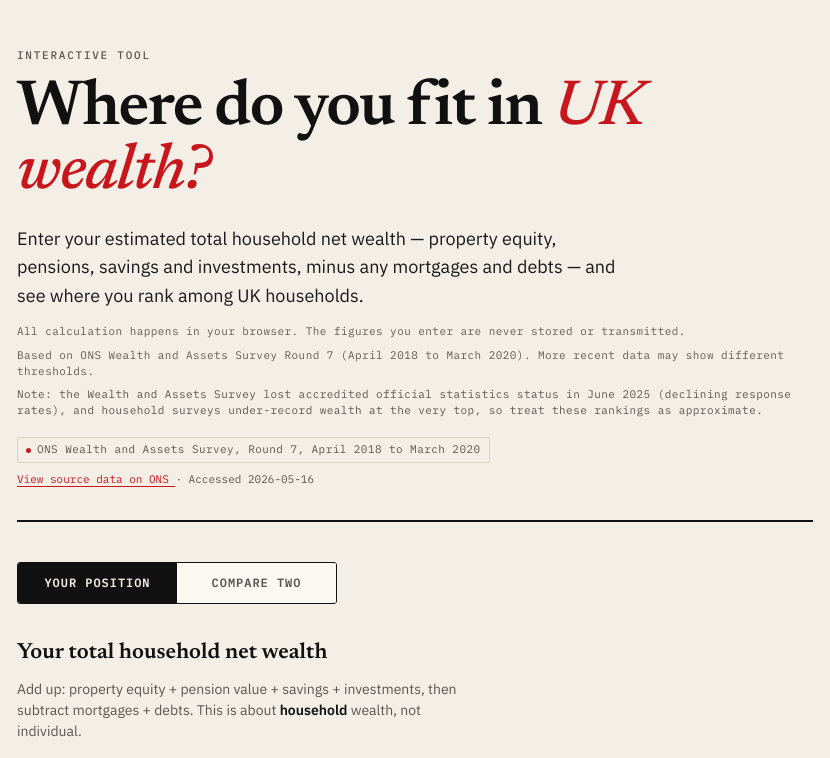
Scenario: WealthCalculator — compare mode results › displays wealth difference
Click the tab with id "tab-compare": [256, 583] box [177,564,336,603]
(page scrolled)
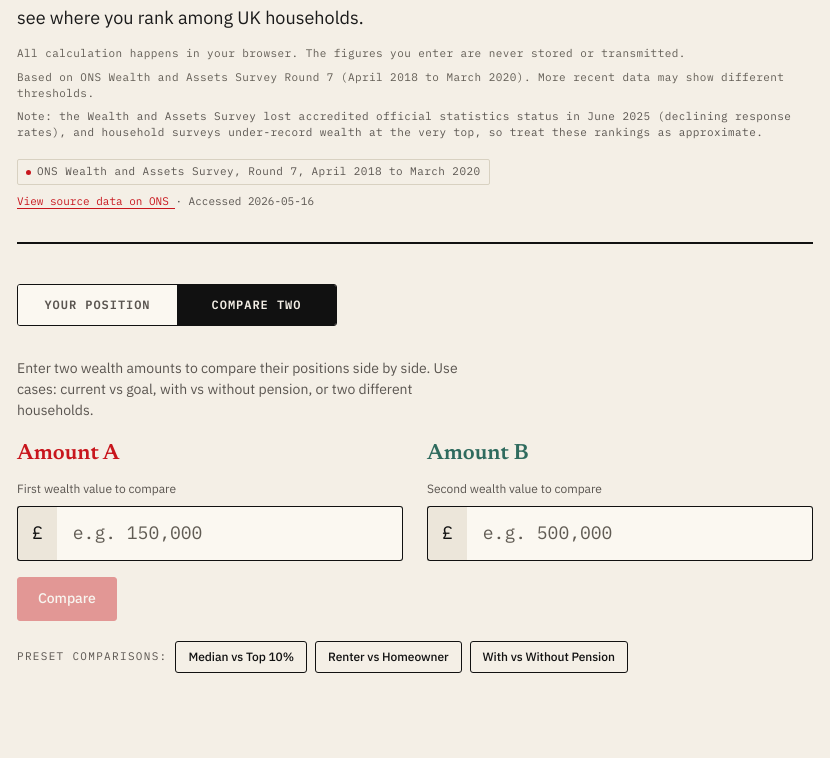
In the field with id "compare-input-a": [230, 533] box [57,506,403,561], type "100000"
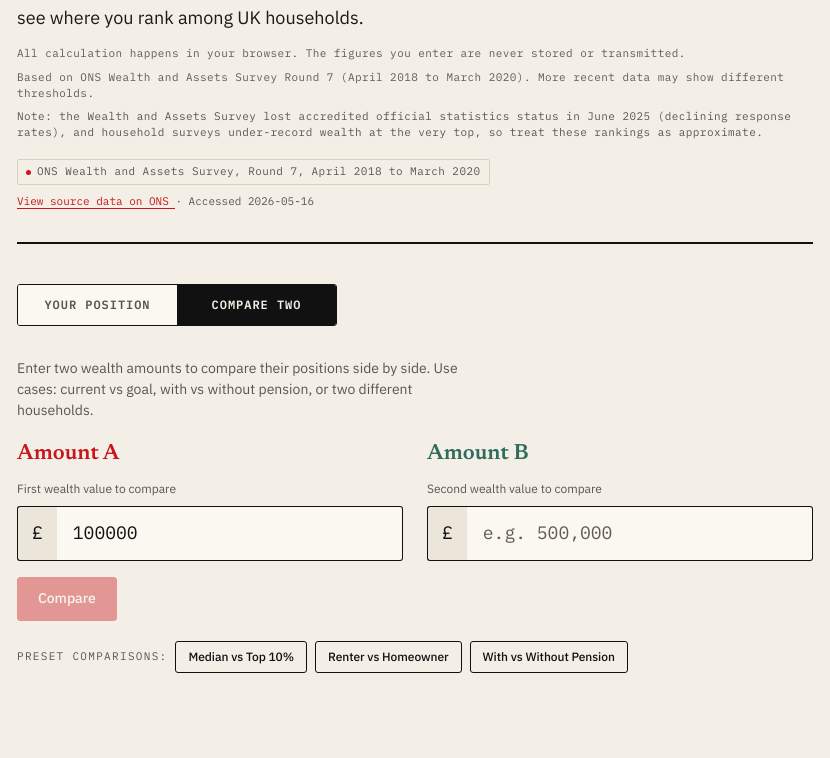
In the field with id "compare-input-b": [640, 533] box [467,506,813,561], type "500000"
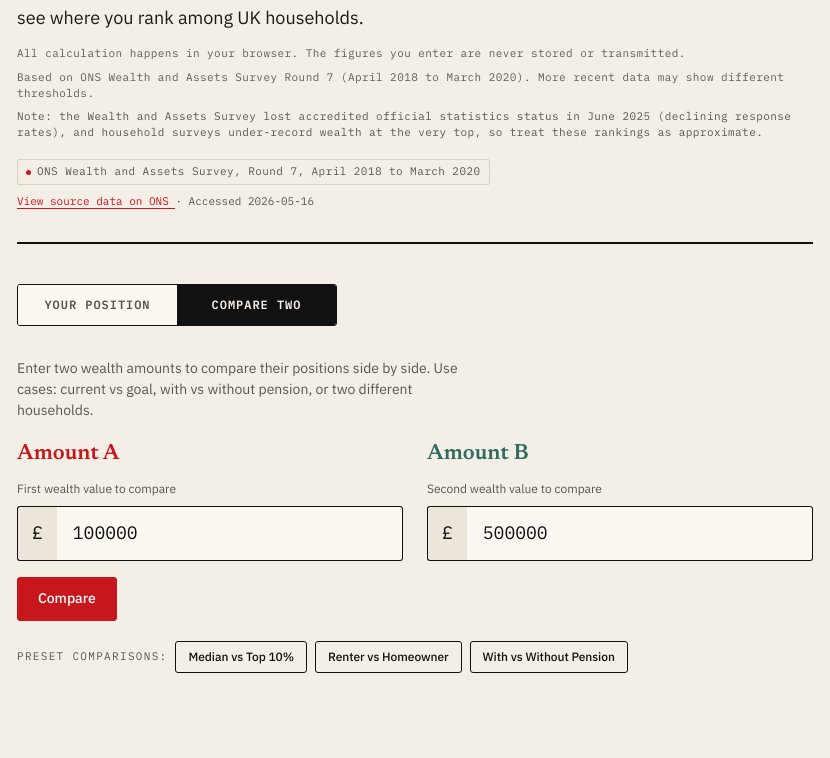
Click the button with class "calc__btn--compare": [67, 599] box [17,577,117,621]
(page scrolled)
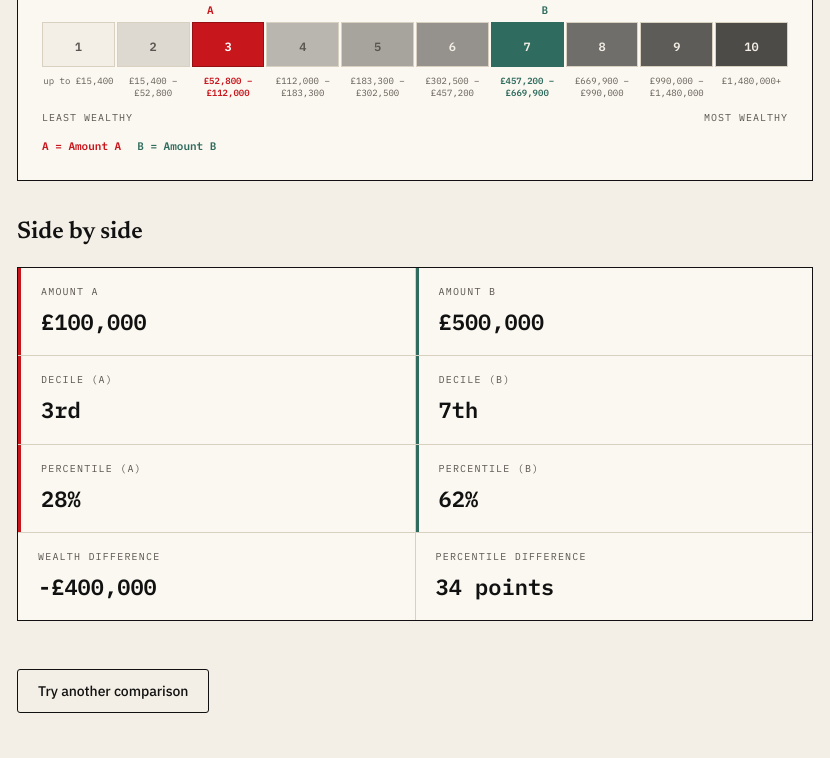
Now the text "Wealth difference" is shown, box [38,550,160,563]
